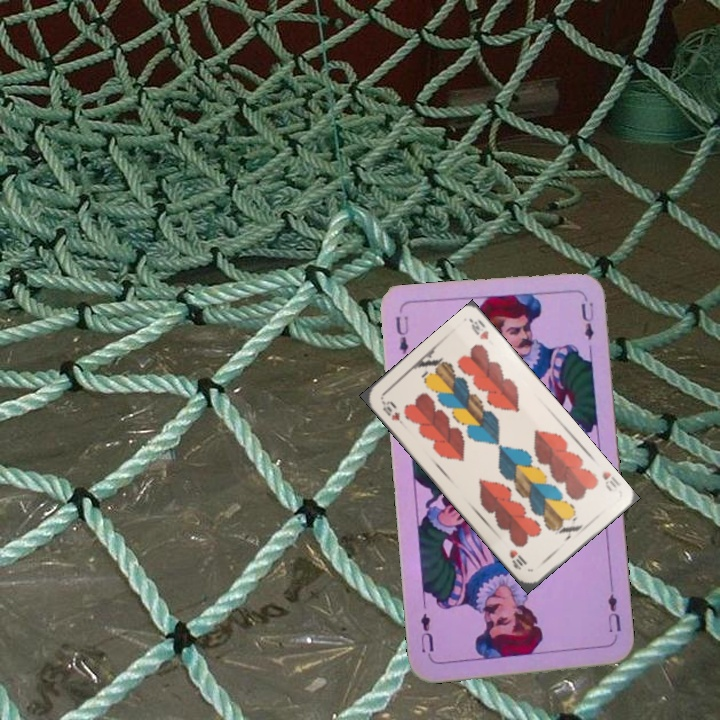EU: (603, 583, 624, 635), (391, 311, 411, 357)
H10: (377, 396, 403, 423), (598, 467, 623, 494)
